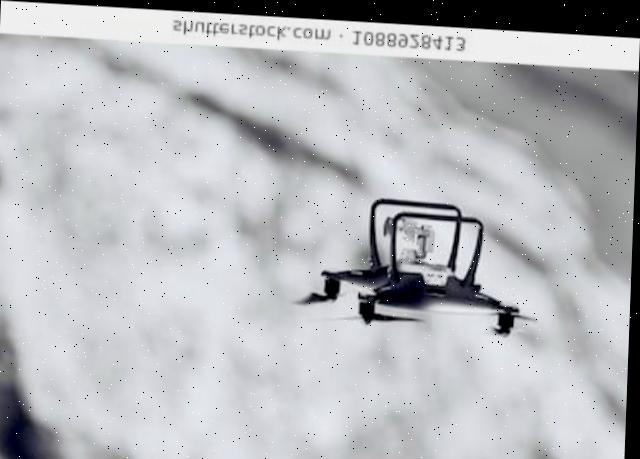drone: (267, 172, 573, 350)
